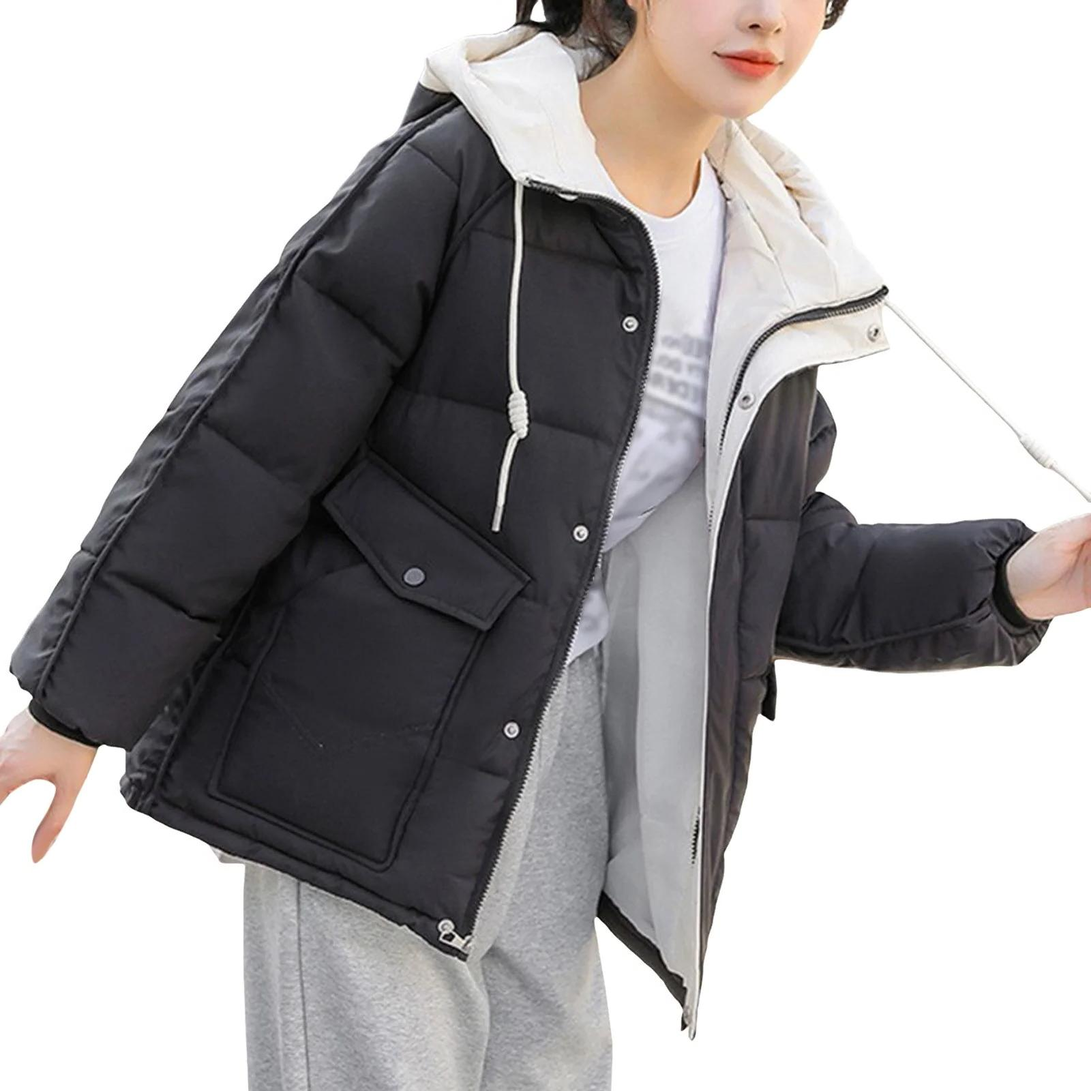coat: (8, 26, 1053, 1038)
short sleeve shirt: (453, 142, 731, 670)
trousers: (235, 639, 620, 1091)
